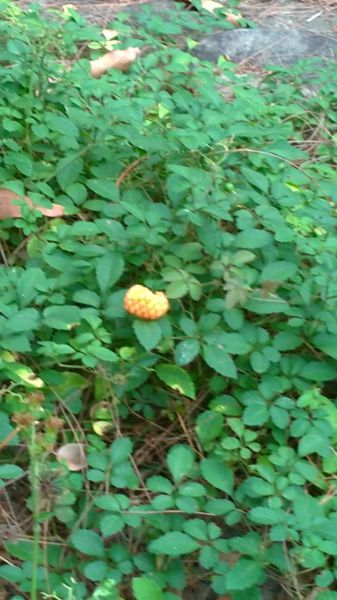eggs: (112, 280, 179, 323)
